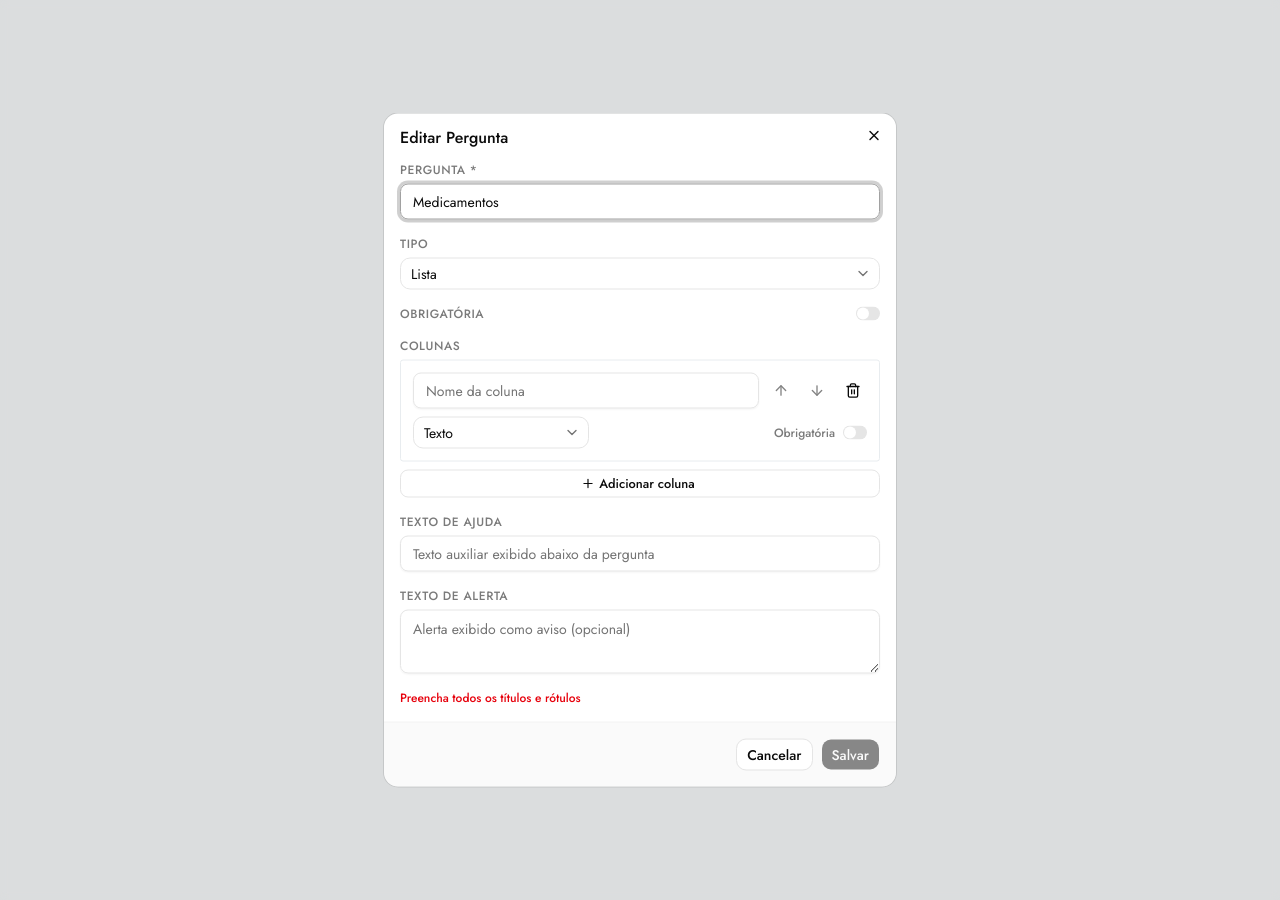
Scenario: QuestionEditorDialog › keeps Salvar disabled while a list column has no name (previously a list could be saved with an unnamed column)
This screenshot has width=1280, height=900.
Expected: the button "Salvar" is disabled, [820,738,880,770]
Type "Nome" into the field labelled "Nome da coluna" at point(586, 390), box [413,372,759,408]
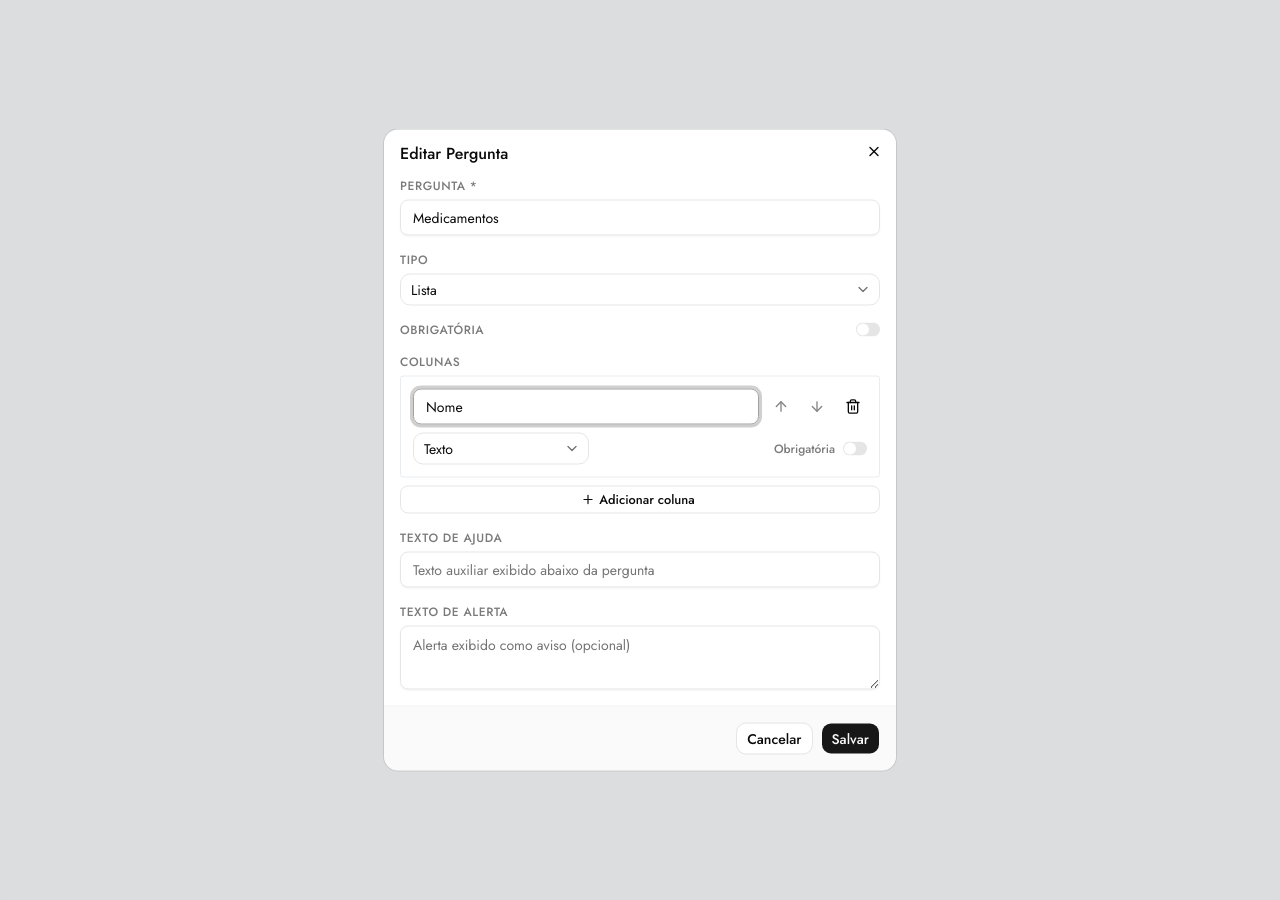
Expected: the button "Salvar" is enabled, [820,722,880,754]
